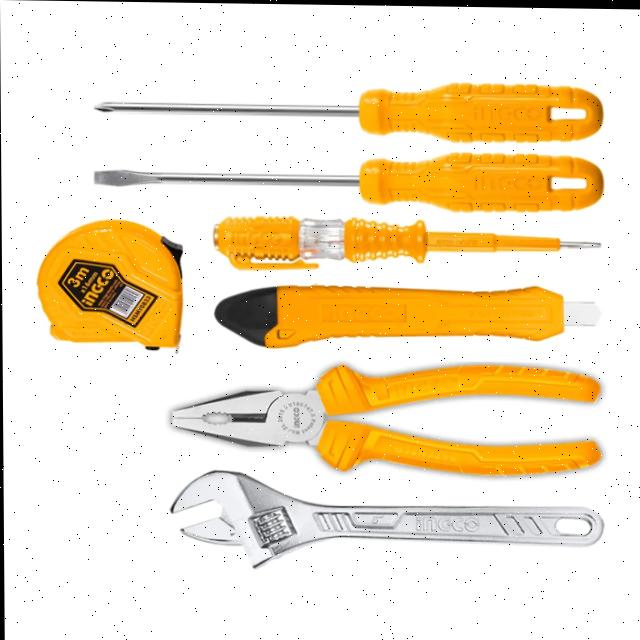Screwdriver: (94, 151, 601, 210), (96, 82, 601, 140), (213, 216, 600, 269)
